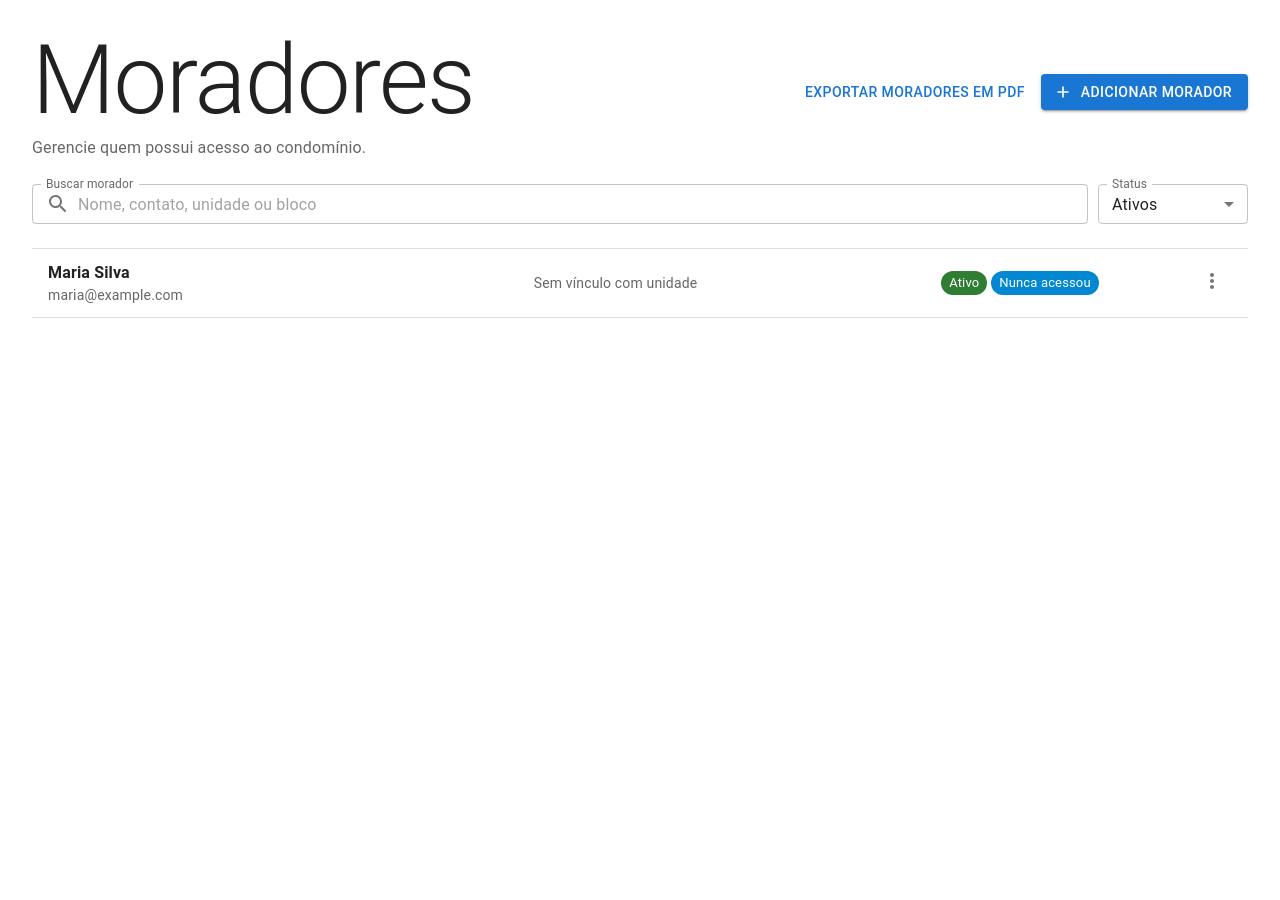
Test: ManagementPeoplePage password reset › opens the populated edit form and updates the list locally
Click the button named "Ações de Maria Silva".
click(1212, 281)  # box [1192,261,1232,301]
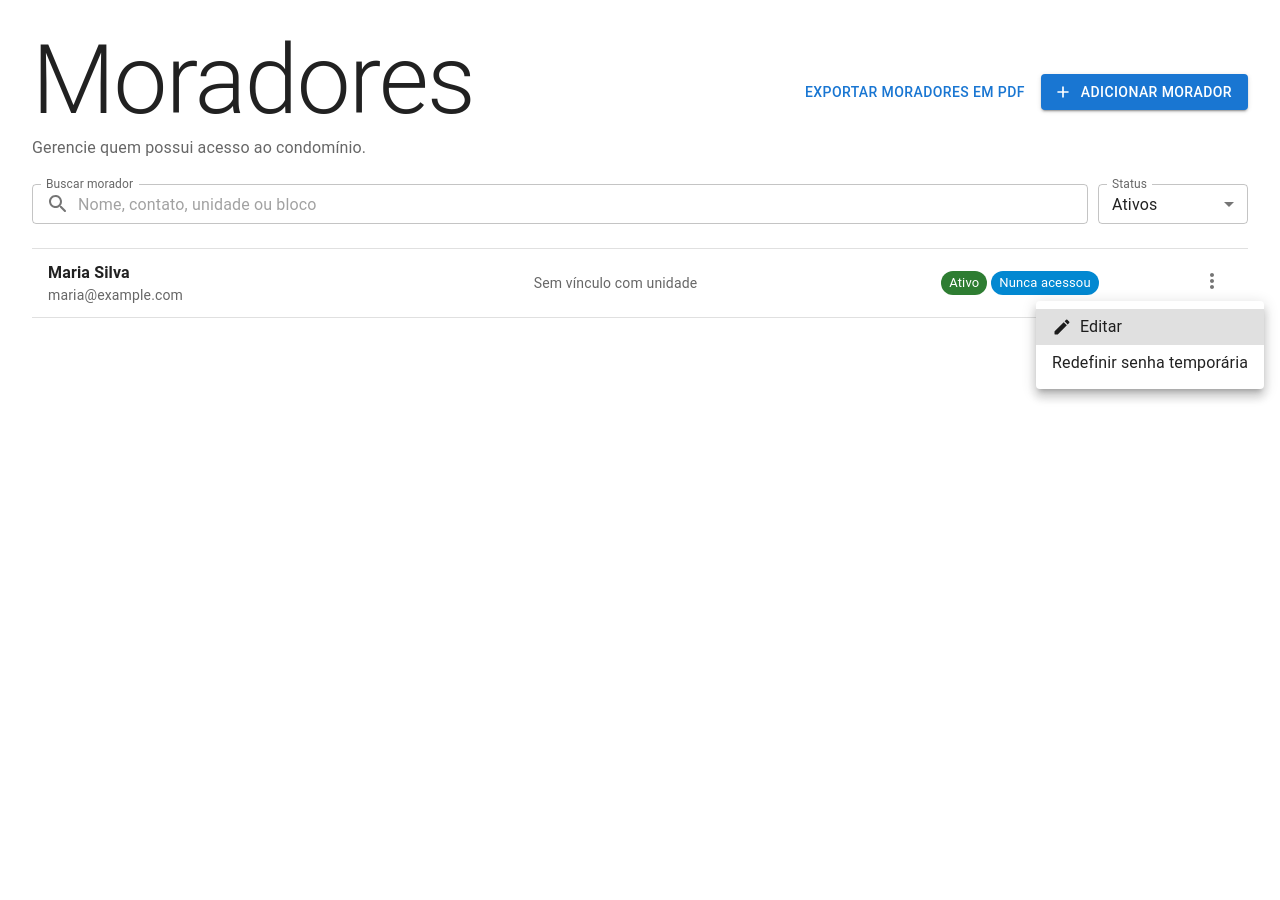
Click the menu item "Editar".
click(1150, 327)  # box [1036,309,1264,345]
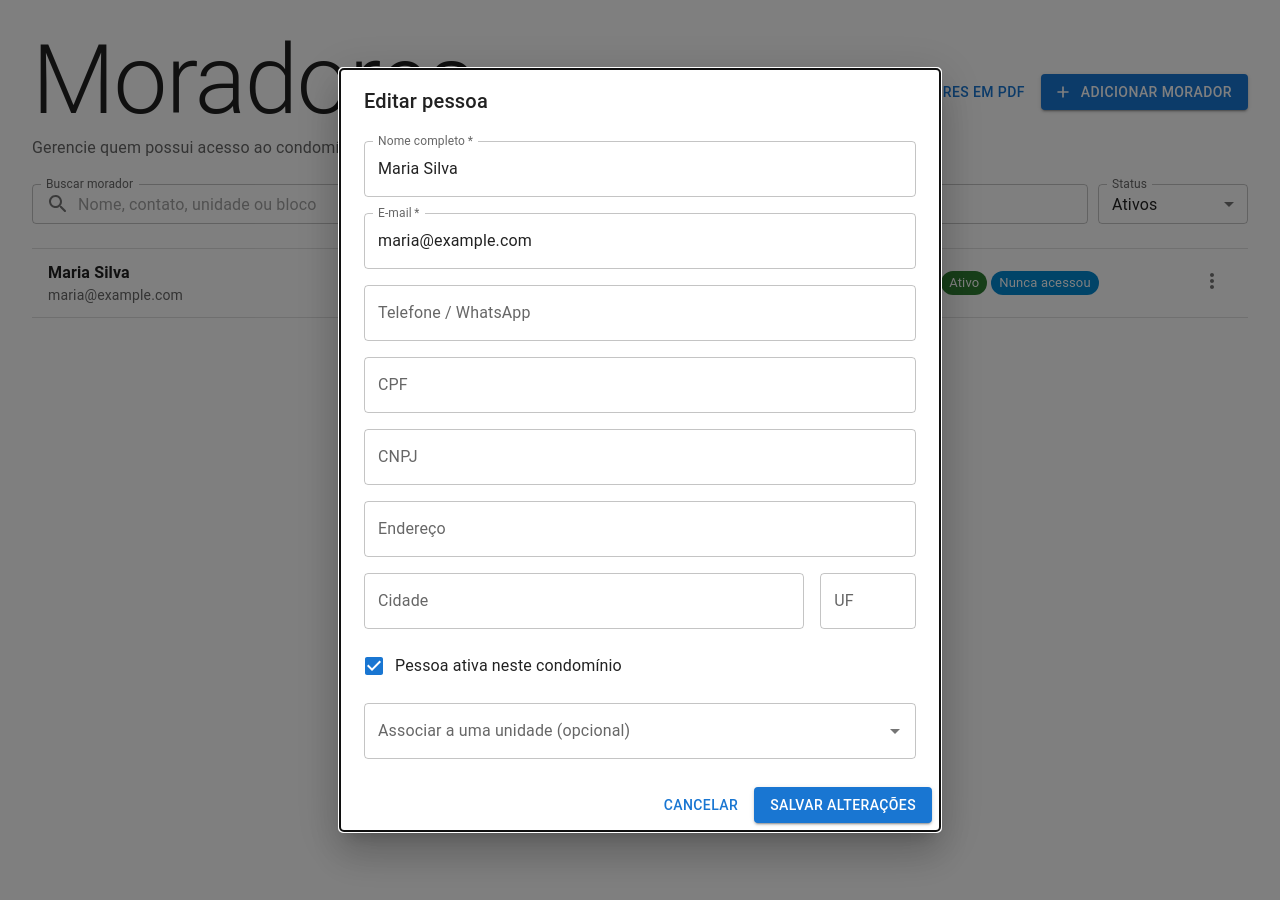
Expected: the heading "Editar pessoa" is shown, [364,89,488,113]
Expected: the field labelled "Nome completo" holds "Maria Silva"
Replace the text in the field labelled "Nome completo" with "Maria Atualizada" at (640, 169), box [364,141,916,197]
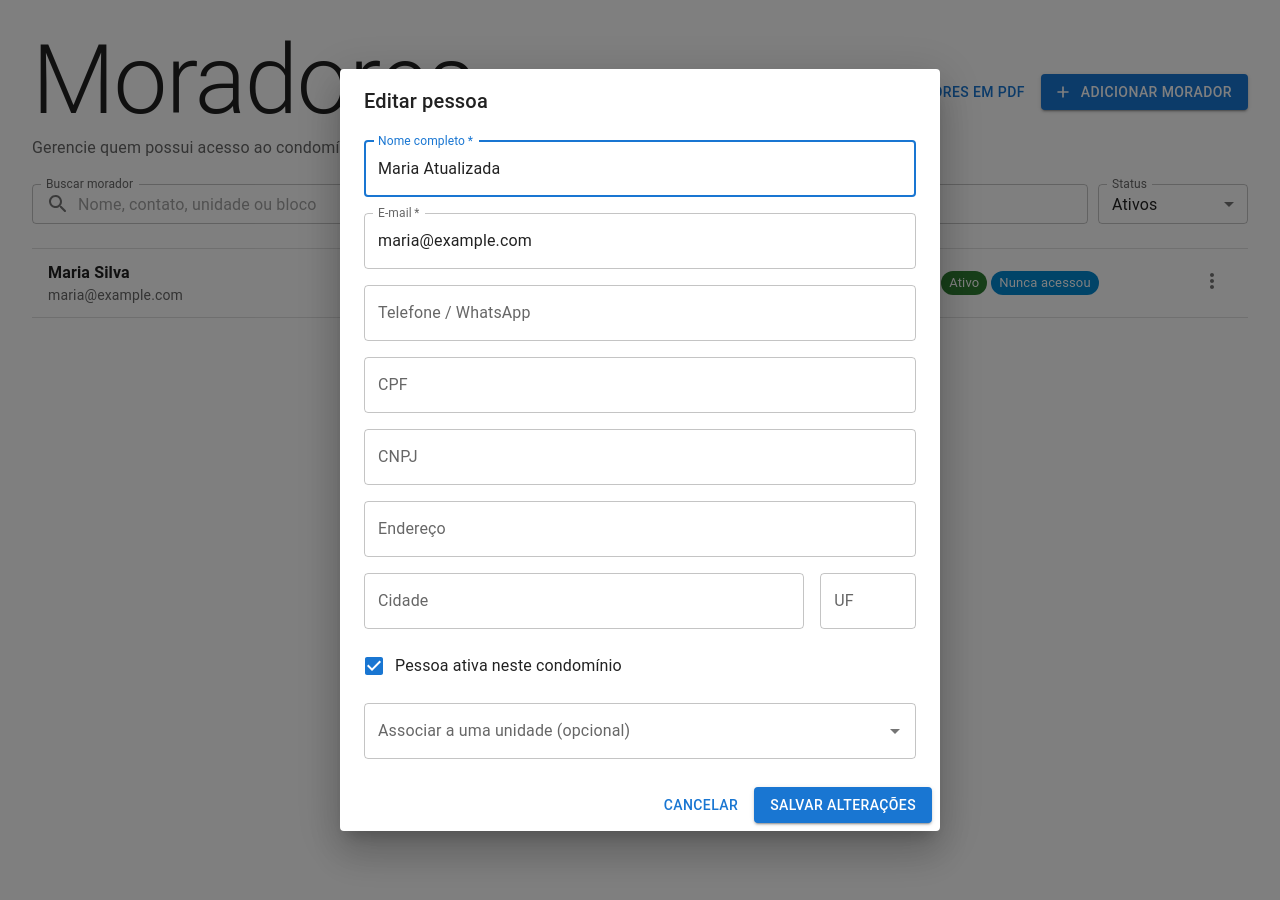
Click the button "Salvar alterações".
click(843, 805)  # box [754,787,932,823]
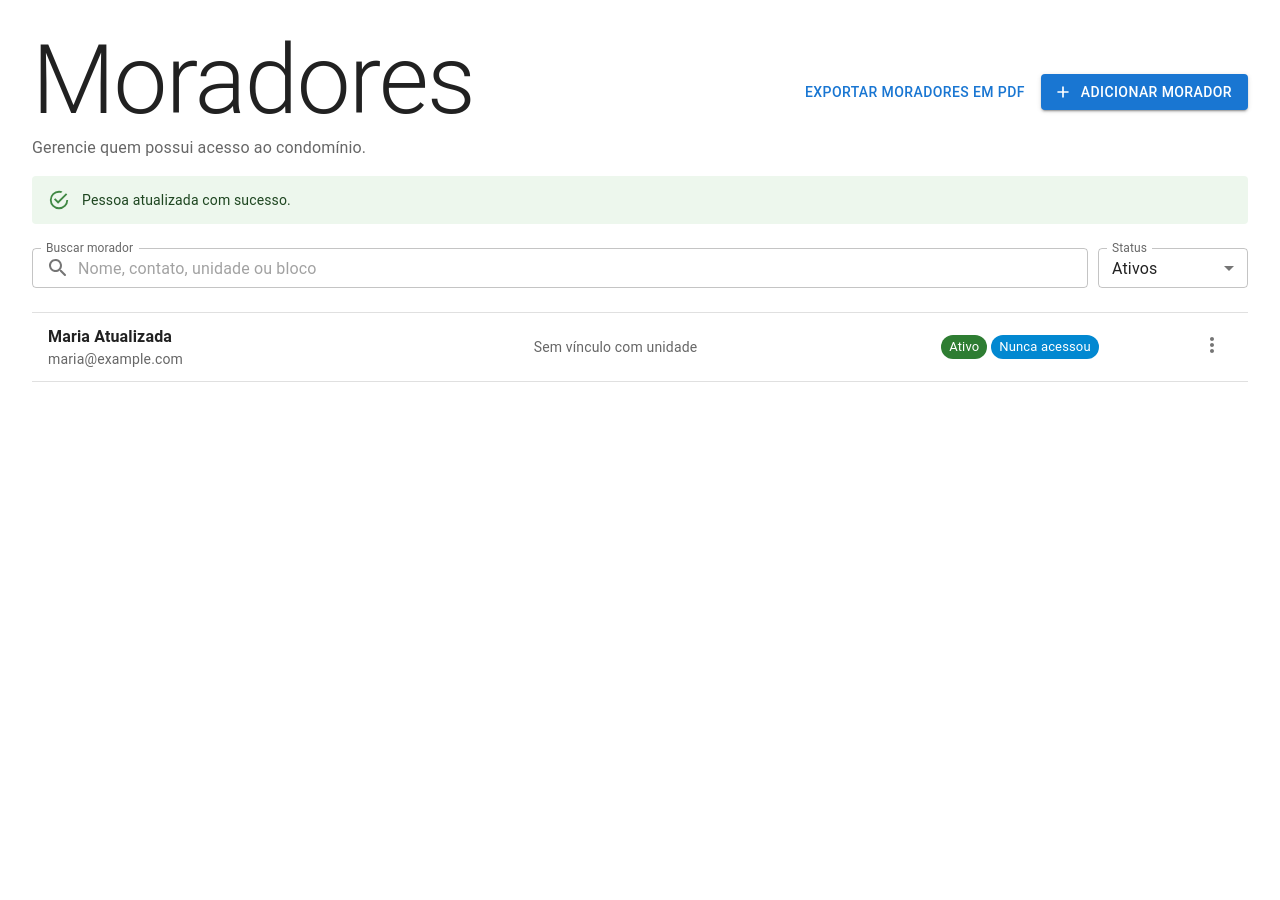
Expected: the text "Pessoa atualizada com sucesso." is shown, [82,192,291,208]
Expected: the text "Maria Atualizada" is shown, [48,327,172,346]
